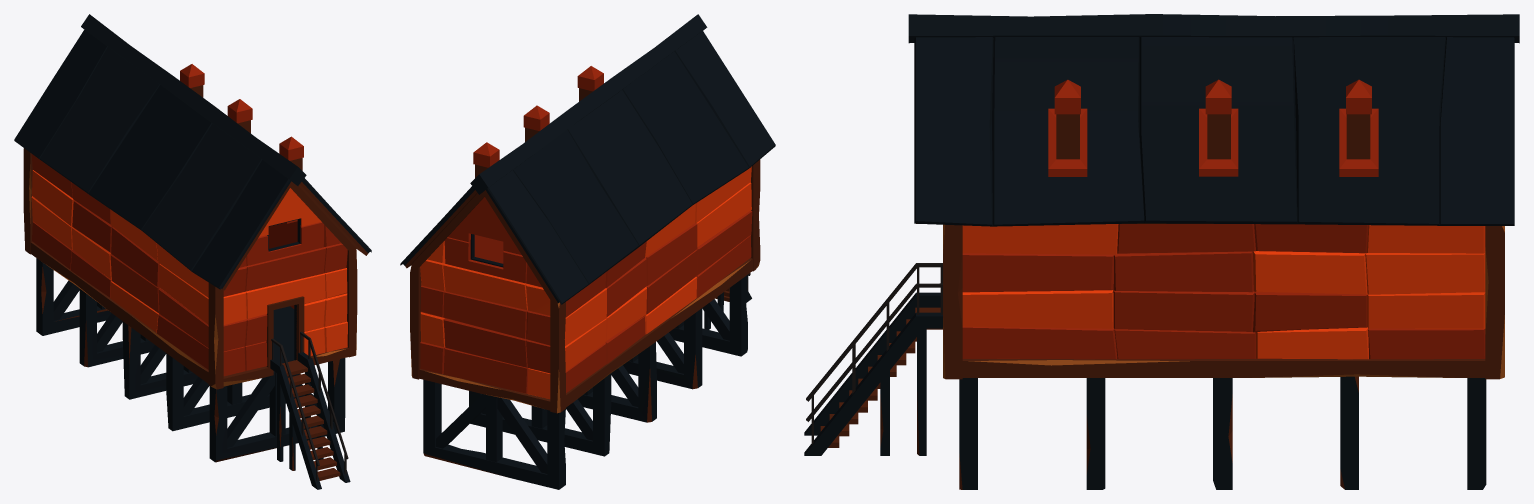
The model's file is Granary.001_1.fbx.
3 views of the same model, side by side, from view 1: azimuth 30°, elevation 25°; view 2: azimuth 150°, elevation 25°; view 3: azimuth 270°, elevation 25° (orthographic). The views are drawn at different scales.
Parts seen in each view (by area): view 1: Granary.001_1; view 2: Granary.001_1; view 3: Granary.001_1.
Boxes of the visible parts, left/top/right/bottom form: Granary.001_1: left=14, top=14, right=371, bottom=489; Granary.001_1: left=400, top=14, right=775, bottom=489; Granary.001_1: left=804, top=14, right=1519, bottom=489.
Bounding box in the file's own units: 139 × 251 × 379.
